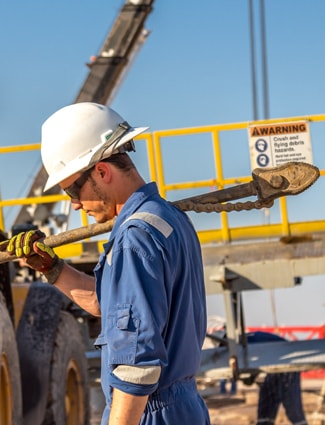epi: (33, 96, 234, 425)
